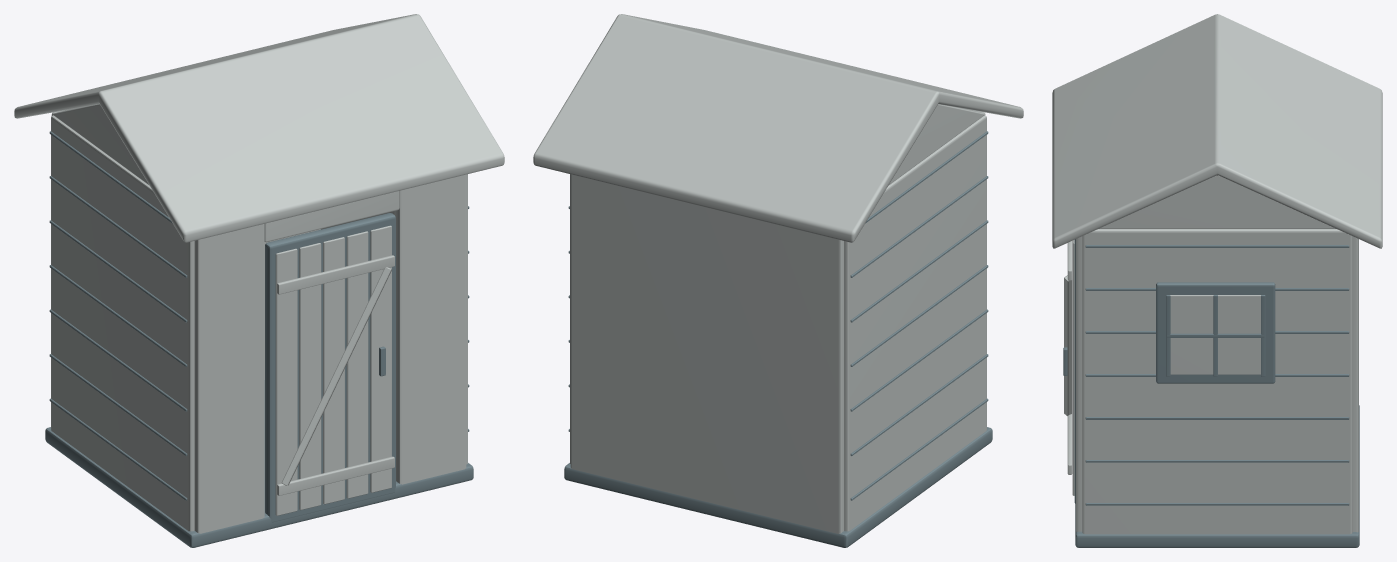
File: garden-shed.glb
3 views of the same model, side by side, from view 1: azimuth 30°, elevation 25°; view 2: azimuth 150°, elevation 25°; view 3: azimuth 270°, elevation 25° (orthographic). The views are drawn at different scales.
Parts seen in each view (by area): view 1: gable_roof, side_wall, front_wall, front_wall.001, shed_door, floor, door_board, door_board.001, door_board.003, door_board.002, door_board.004, door_header (+5 smaller); view 2: rear_wall, gable_roof, side_wall, floor, gable_wall; view 3: side_wall.001, gable_roof, side_window, gable_wall, side_window_frame, floor, rear_wall, front_wall.001, door_diagonal, side_siding.001, side_siding.003, side_siding.005 (+7 smaller).
Boxes of the visible parts, x1,y1,x2,y2 form: gable_roof: [14, 14, 504, 242]; side_wall: [51, 115, 194, 531]; front_wall: [194, 224, 264, 533]; front_wall.001: [394, 174, 466, 484]; shed_door: [265, 213, 395, 522]; floor: [45, 380, 473, 547]; door_board: [275, 248, 297, 515]; door_board.001: [299, 243, 321, 510]; door_board.003: [346, 231, 368, 498]; door_board.002: [323, 237, 344, 504]; door_board.004: [370, 225, 391, 492]; door_header: [264, 191, 399, 242]; rear_wall: [570, 174, 843, 533]; gable_roof: [533, 14, 1023, 242]; side_wall: [844, 115, 986, 531]; floor: [564, 427, 992, 547]; gable_wall: [888, 104, 985, 185]; side_wall.001: [1082, 229, 1352, 534]; gable_roof: [1052, 14, 1382, 248]; side_window: [1170, 295, 1260, 374]; gable_wall: [1099, 175, 1335, 228]; side_window_frame: [1156, 282, 1275, 383]; floor: [1075, 405, 1359, 547]; rear_wall: [1352, 236, 1358, 532]; front_wall.001: [1076, 236, 1082, 531]; door_diagonal: [1064, 275, 1072, 415]; side_siding.001: [1085, 503, 1349, 505]; side_siding.003: [1085, 460, 1349, 462]; side_siding.005: [1085, 417, 1349, 419].
Bounding box in the file's own units: 2.04 × 2.48 × 1.88.
